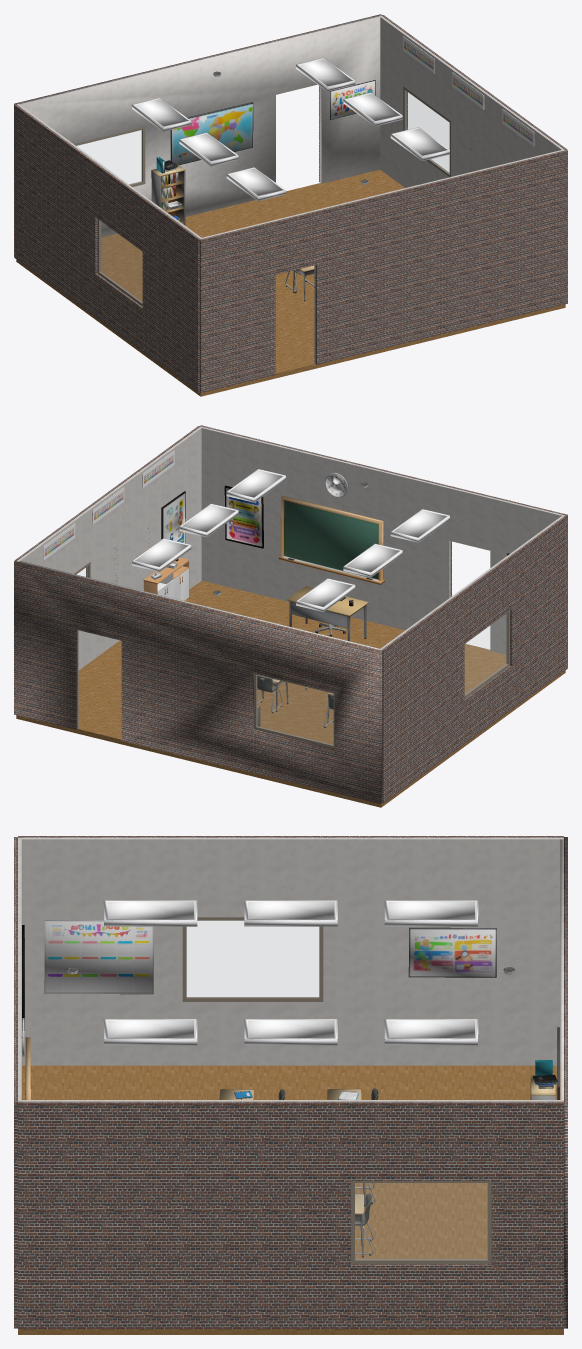
Rendered from scene_named.glb.
The picture shows the model from 3 angles, top to bottom: view 1: azimuth 30°, elevation 25°; view 2: azimuth 150°, elevation 25°; view 3: azimuth 270°, elevation 25°; orthographic projection. The views are drawn at different scales.
Parts seen in each view (by area): view 1: south_wall_exterior_classroom/south_wall_exterior_classroom/, north_wall_classroom/north_wall_classroom/geometry_0, west_wall_exterior_classroom/west_wall_exterior_classroom/ge, floor_classroom, east_wall_classroom/east_wall_classroom/geometry_0, poster_2, window_4_classroom/window_4_classroom/glass, window_5_classroom/window_5_classroom/glass, window_3_classroom/window_3_classroom/glass, troffer_light_3, bookcase_0, troffer_light_5 (+15 smaller); view 2: north_wall_exterior_classroom/north_wall_exterior_classroom/, south_wall_classroom/south_wall_classroom/geometry_0, west_wall_exterior_classroom/west_wall_exterior_classroom/ge, floor_classroom, east_wall_classroom/east_wall_classroom/geometry_0, chalkboard_0, window_5_classroom/window_5_classroom/glass, window_4_classroom/window_4_classroom/glass, poster_0, teachers_desk_0, troffer_light_2, troffer_light_3 (+14 smaller); view 3: east_wall_exterior_classroom/east_wall_exterior_classroom/ge, west_wall_classroom/west_wall_classroom/geometry_0, floor_classroom, window_3_classroom/window_3_classroom/glass, window_4_classroom/window_4_classroom/glass, display_board_0, poster_6, troffer_light_4, troffer_light_5, troffer_light_0, troffer_light_1, troffer_light_2 (+9 smaller).
Boxes of the visible parts, bbox=[...] form: south_wall_exterior_classroom/south_wall_exterior_classroom/: bbox=[199, 150, 567, 392]; north_wall_classroom/north_wall_classroom/geometry_0: bbox=[19, 16, 380, 237]; west_wall_exterior_classroom/west_wall_exterior_classroom/ge: bbox=[14, 104, 200, 392]; floor_classroom: bbox=[16, 169, 565, 396]; east_wall_classroom/east_wall_classroom/geometry_0: bbox=[379, 15, 564, 187]; poster_2: bbox=[170, 102, 253, 164]; window_4_classroom/window_4_classroom/glass: bbox=[100, 221, 142, 302]; window_5_classroom/window_5_classroom/glass: bbox=[77, 130, 141, 184]; window_3_classroom/window_3_classroom/glass: bbox=[406, 91, 449, 173]; troffer_light_3: bbox=[343, 92, 402, 126]; bookcase_0: bbox=[151, 163, 185, 225]; troffer_light_5: bbox=[296, 57, 355, 91]; north_wall_exterior_classroom/north_wall_exterior_classroom/: bbox=[14, 561, 382, 803]; south_wall_classroom/south_wall_classroom/geometry_0: bbox=[201, 427, 562, 654]; west_wall_exterior_classroom/west_wall_exterior_classroom/ge: bbox=[381, 515, 567, 803]; floor_classroom: bbox=[16, 580, 565, 807]; east_wall_classroom/east_wall_classroom/geometry_0: bbox=[17, 426, 202, 670]; chalkboard_0: bbox=[278, 495, 384, 584]; window_5_classroom/window_5_classroom/glass: bbox=[257, 675, 333, 744]; window_4_classroom/window_4_classroom/glass: bbox=[465, 613, 507, 694]; poster_0: bbox=[224, 485, 263, 548]; teachers_desk_0: bbox=[287, 586, 368, 641]; troffer_light_2: bbox=[343, 543, 402, 577]; troffer_light_3: bbox=[179, 503, 238, 537]; east_wall_exterior_classroom/east_wall_exterior_classroom/ge: bbox=[18, 1101, 563, 1329]; west_wall_classroom/west_wall_classroom/geometry_0: bbox=[18, 837, 563, 1065]; floor_classroom: bbox=[18, 1065, 563, 1334]; window_3_classroom/window_3_classroom/glass: bbox=[355, 1183, 487, 1259]; window_4_classroom/window_4_classroom/glass: bbox=[187, 921, 318, 997]; display_board_0: bbox=[44, 920, 153, 994]; poster_6: bbox=[408, 927, 496, 977]; troffer_light_4: bbox=[384, 900, 478, 926]; troffer_light_5: bbox=[384, 1019, 478, 1045]; troffer_light_0: bbox=[103, 900, 197, 926]; troffer_light_1: bbox=[103, 1019, 197, 1045]; troffer_light_2: bbox=[244, 900, 337, 926].
Bounding box in the file's own units: 8.1 × 3.3 × 7.1.
52 materials, 47 textured.
